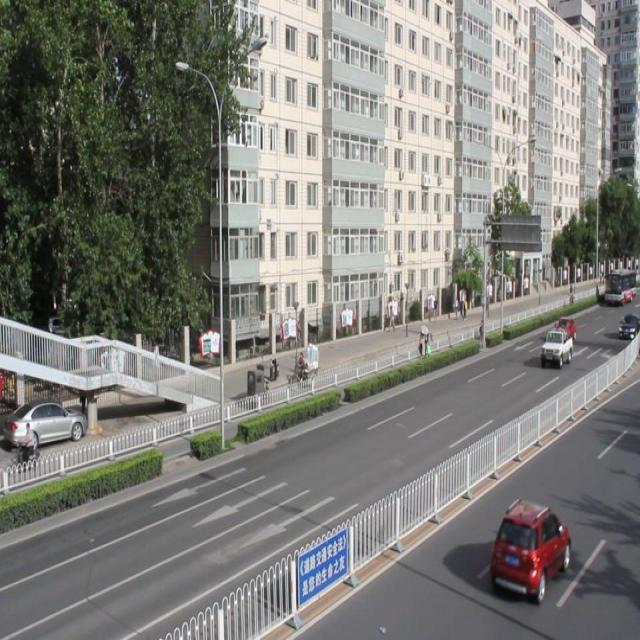car: (488, 498, 570, 600), (538, 328, 571, 368)
